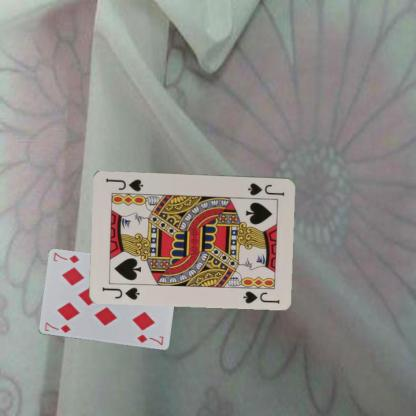7d: (42, 320, 72, 334)
Js: (100, 284, 141, 301), (246, 180, 286, 197)
